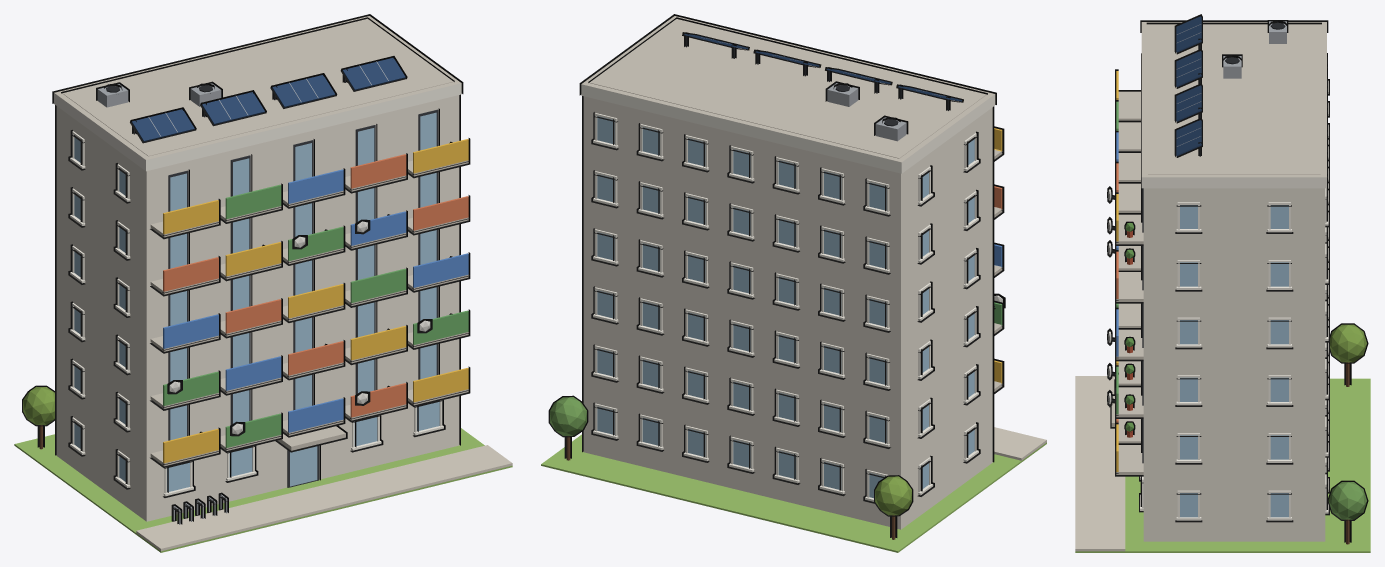
File: Konut_balkonlu_blok_1.fbx
The picture shows the model from 3 angles, left to right: view 1: azimuth 30°, elevation 25°; view 2: azimuth 150°, elevation 25°; view 3: azimuth 270°, elevation 25°; orthographic projection.
Parts seen in each view (by area): view 1: Konut_balkonlu_blok_1; view 2: Konut_balkonlu_blok_1; view 3: Konut_balkonlu_blok_1.
Boxes of the visible parts, x1,y1,x2,y2 form: Konut_balkonlu_blok_1: [14, 14, 512, 552]; Konut_balkonlu_blok_1: [541, 14, 1046, 552]; Konut_balkonlu_blok_1: [1075, 14, 1370, 552].
Size of the model in its own units: 18.22 by 18.56 by 13.
